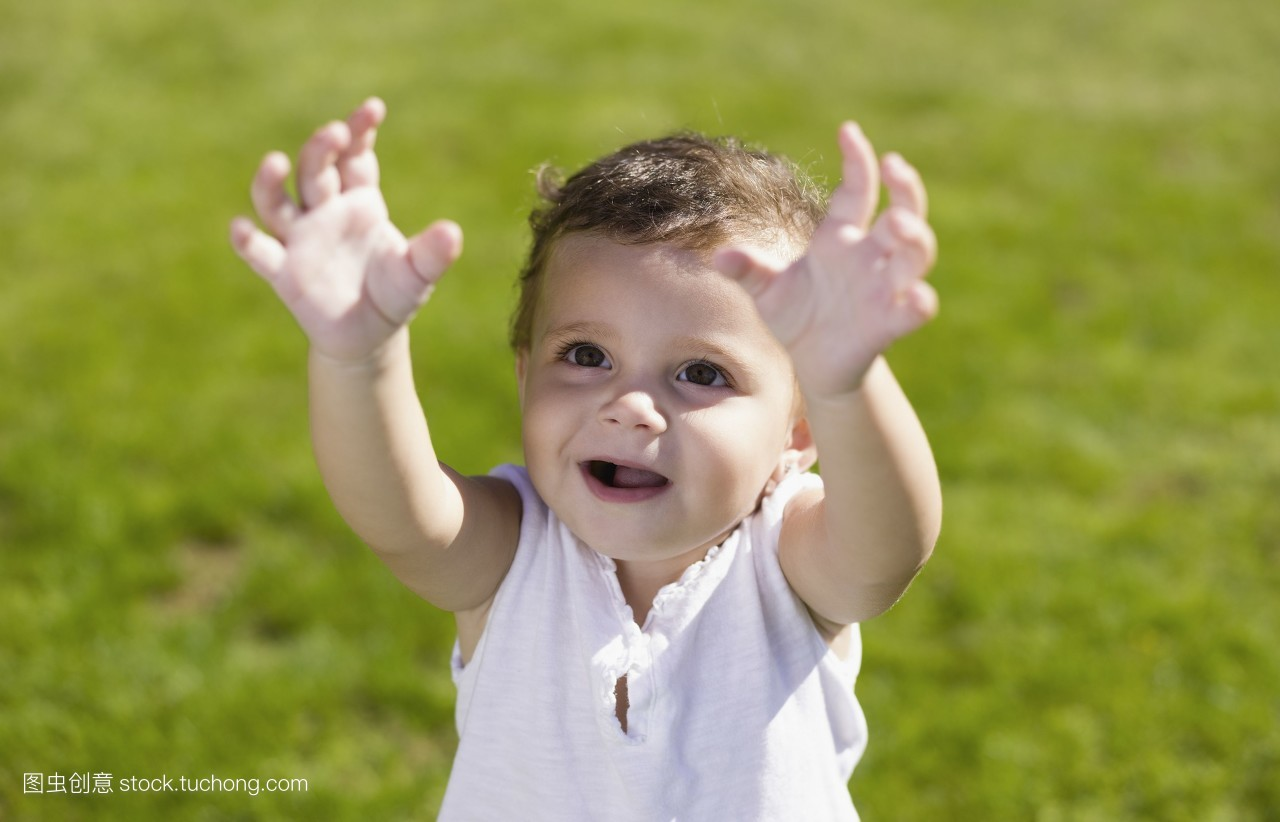handsup: (217, 72, 989, 809)
